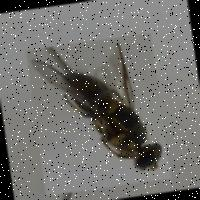Oriental-fruit-fly: (24, 32, 169, 195)
